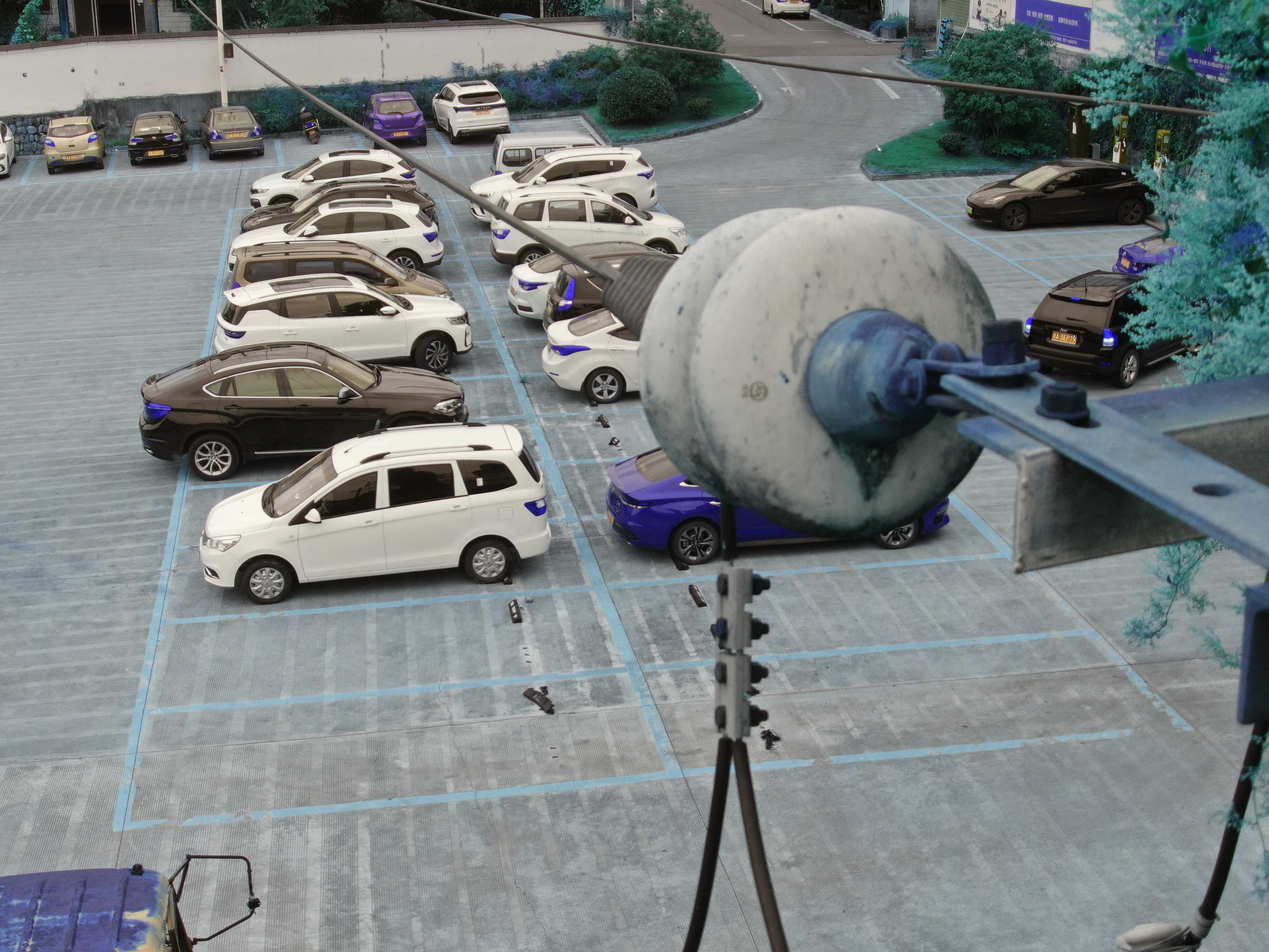severe_soiling_no_discharge_whole: (624, 191, 1011, 543)
